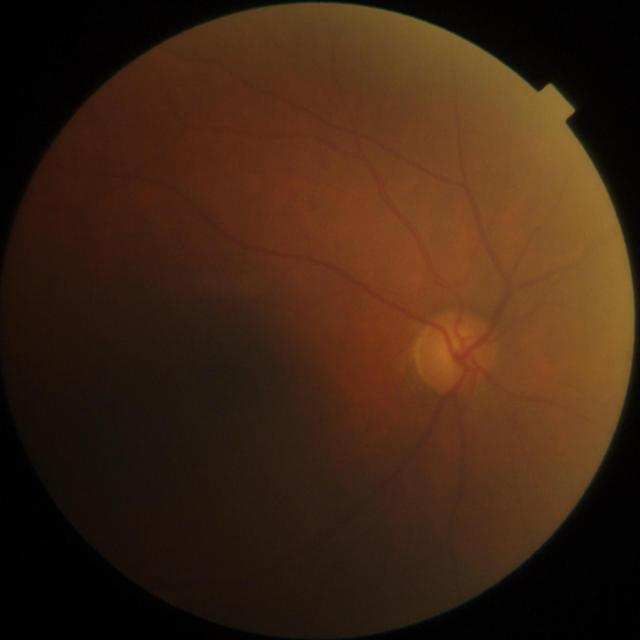OD: (415, 317, 496, 395)
